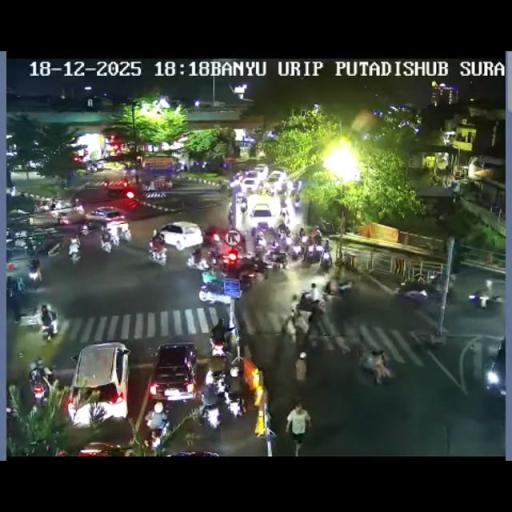Car: (66, 342, 130, 424), (148, 342, 198, 402), (152, 220, 203, 250), (198, 274, 242, 305), (485, 336, 505, 396), (47, 201, 84, 223), (74, 441, 130, 455), (88, 206, 126, 225), (104, 178, 134, 198), (250, 202, 273, 224), (266, 170, 287, 190), (240, 175, 262, 193), (253, 163, 269, 177), (86, 160, 104, 172)
Motorcycle: (191, 221, 326, 292), (208, 323, 234, 356), (409, 328, 447, 350), (146, 417, 170, 451), (222, 387, 244, 419), (369, 358, 394, 386), (205, 371, 229, 398), (296, 290, 323, 314), (6, 281, 22, 320), (200, 403, 221, 430), (293, 310, 309, 344), (30, 375, 48, 405), (186, 250, 210, 272), (36, 236, 63, 255), (266, 248, 288, 270), (40, 314, 58, 340), (238, 270, 258, 292), (398, 288, 429, 302), (304, 242, 322, 266), (148, 244, 166, 266), (468, 288, 490, 306), (41, 360, 56, 386), (28, 264, 42, 290), (429, 271, 448, 290), (6, 390, 18, 420), (286, 239, 302, 261), (210, 232, 226, 254), (282, 314, 295, 340), (100, 232, 114, 254), (336, 279, 354, 296), (210, 251, 224, 272), (254, 242, 267, 263), (320, 249, 332, 270), (486, 294, 504, 308), (118, 224, 131, 242), (326, 278, 339, 296), (69, 246, 81, 264), (290, 294, 299, 318), (79, 222, 92, 236), (280, 206, 290, 224), (278, 223, 290, 238), (25, 238, 35, 256), (312, 228, 322, 245), (37, 200, 51, 212), (250, 226, 260, 242), (284, 179, 294, 195), (122, 165, 134, 178), (292, 194, 301, 210), (6, 245, 14, 263), (6, 229, 16, 243), (300, 233, 309, 248), (175, 162, 188, 172), (228, 206, 234, 226), (154, 232, 164, 244), (239, 200, 247, 214), (236, 189, 245, 200), (219, 182, 228, 192), (70, 234, 78, 245), (102, 178, 109, 189), (56, 216, 64, 225)
